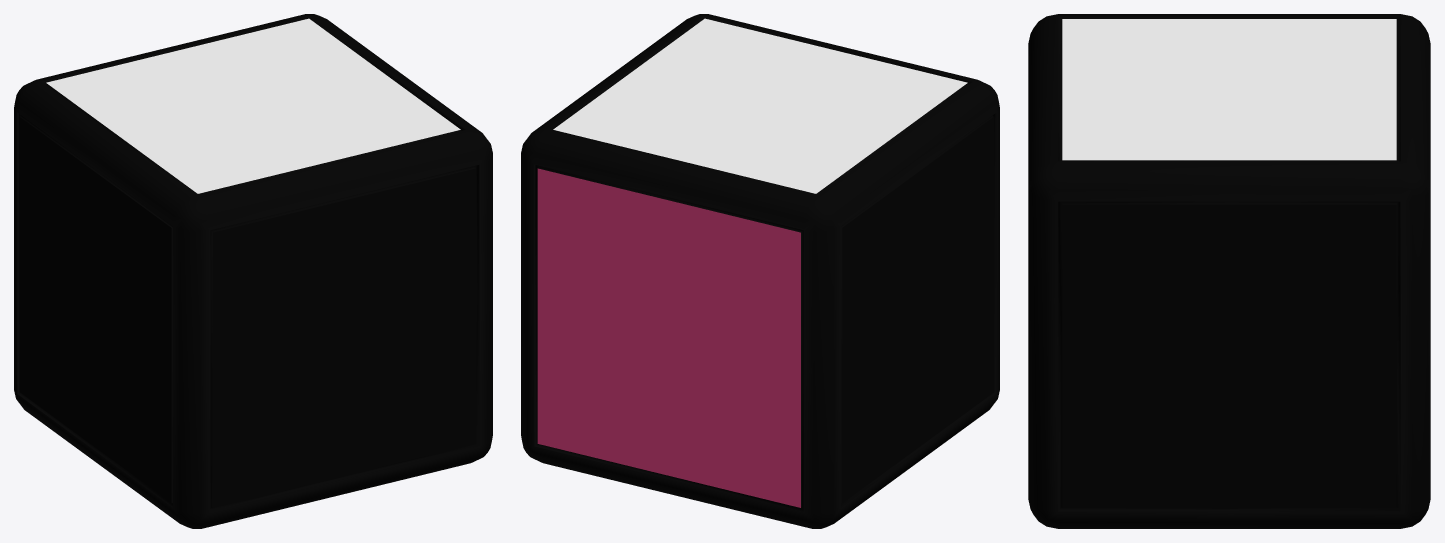
File: oneCubeObjToOrg16.gltf
3 views of the same model, side by side, from view 1: azimuth 30°, elevation 25°; view 2: azimuth 150°, elevation 25°; view 3: azimuth 270°, elevation 25° (orthographic). The views are drawn at different scales.
Parts seen in each view (by area): view 1: Cube.019; view 2: Cube.019; view 3: Cube.019.
Boxes of the visible parts, x1=… form: Cube.019: x1=14, y1=14, x2=492, y2=528; Cube.019: x1=521, y1=14, x2=999, y2=528; Cube.019: x1=1028, y1=14, x2=1430, y2=528.
Bounding box in the file's own units: 2 × 2 × 2.
